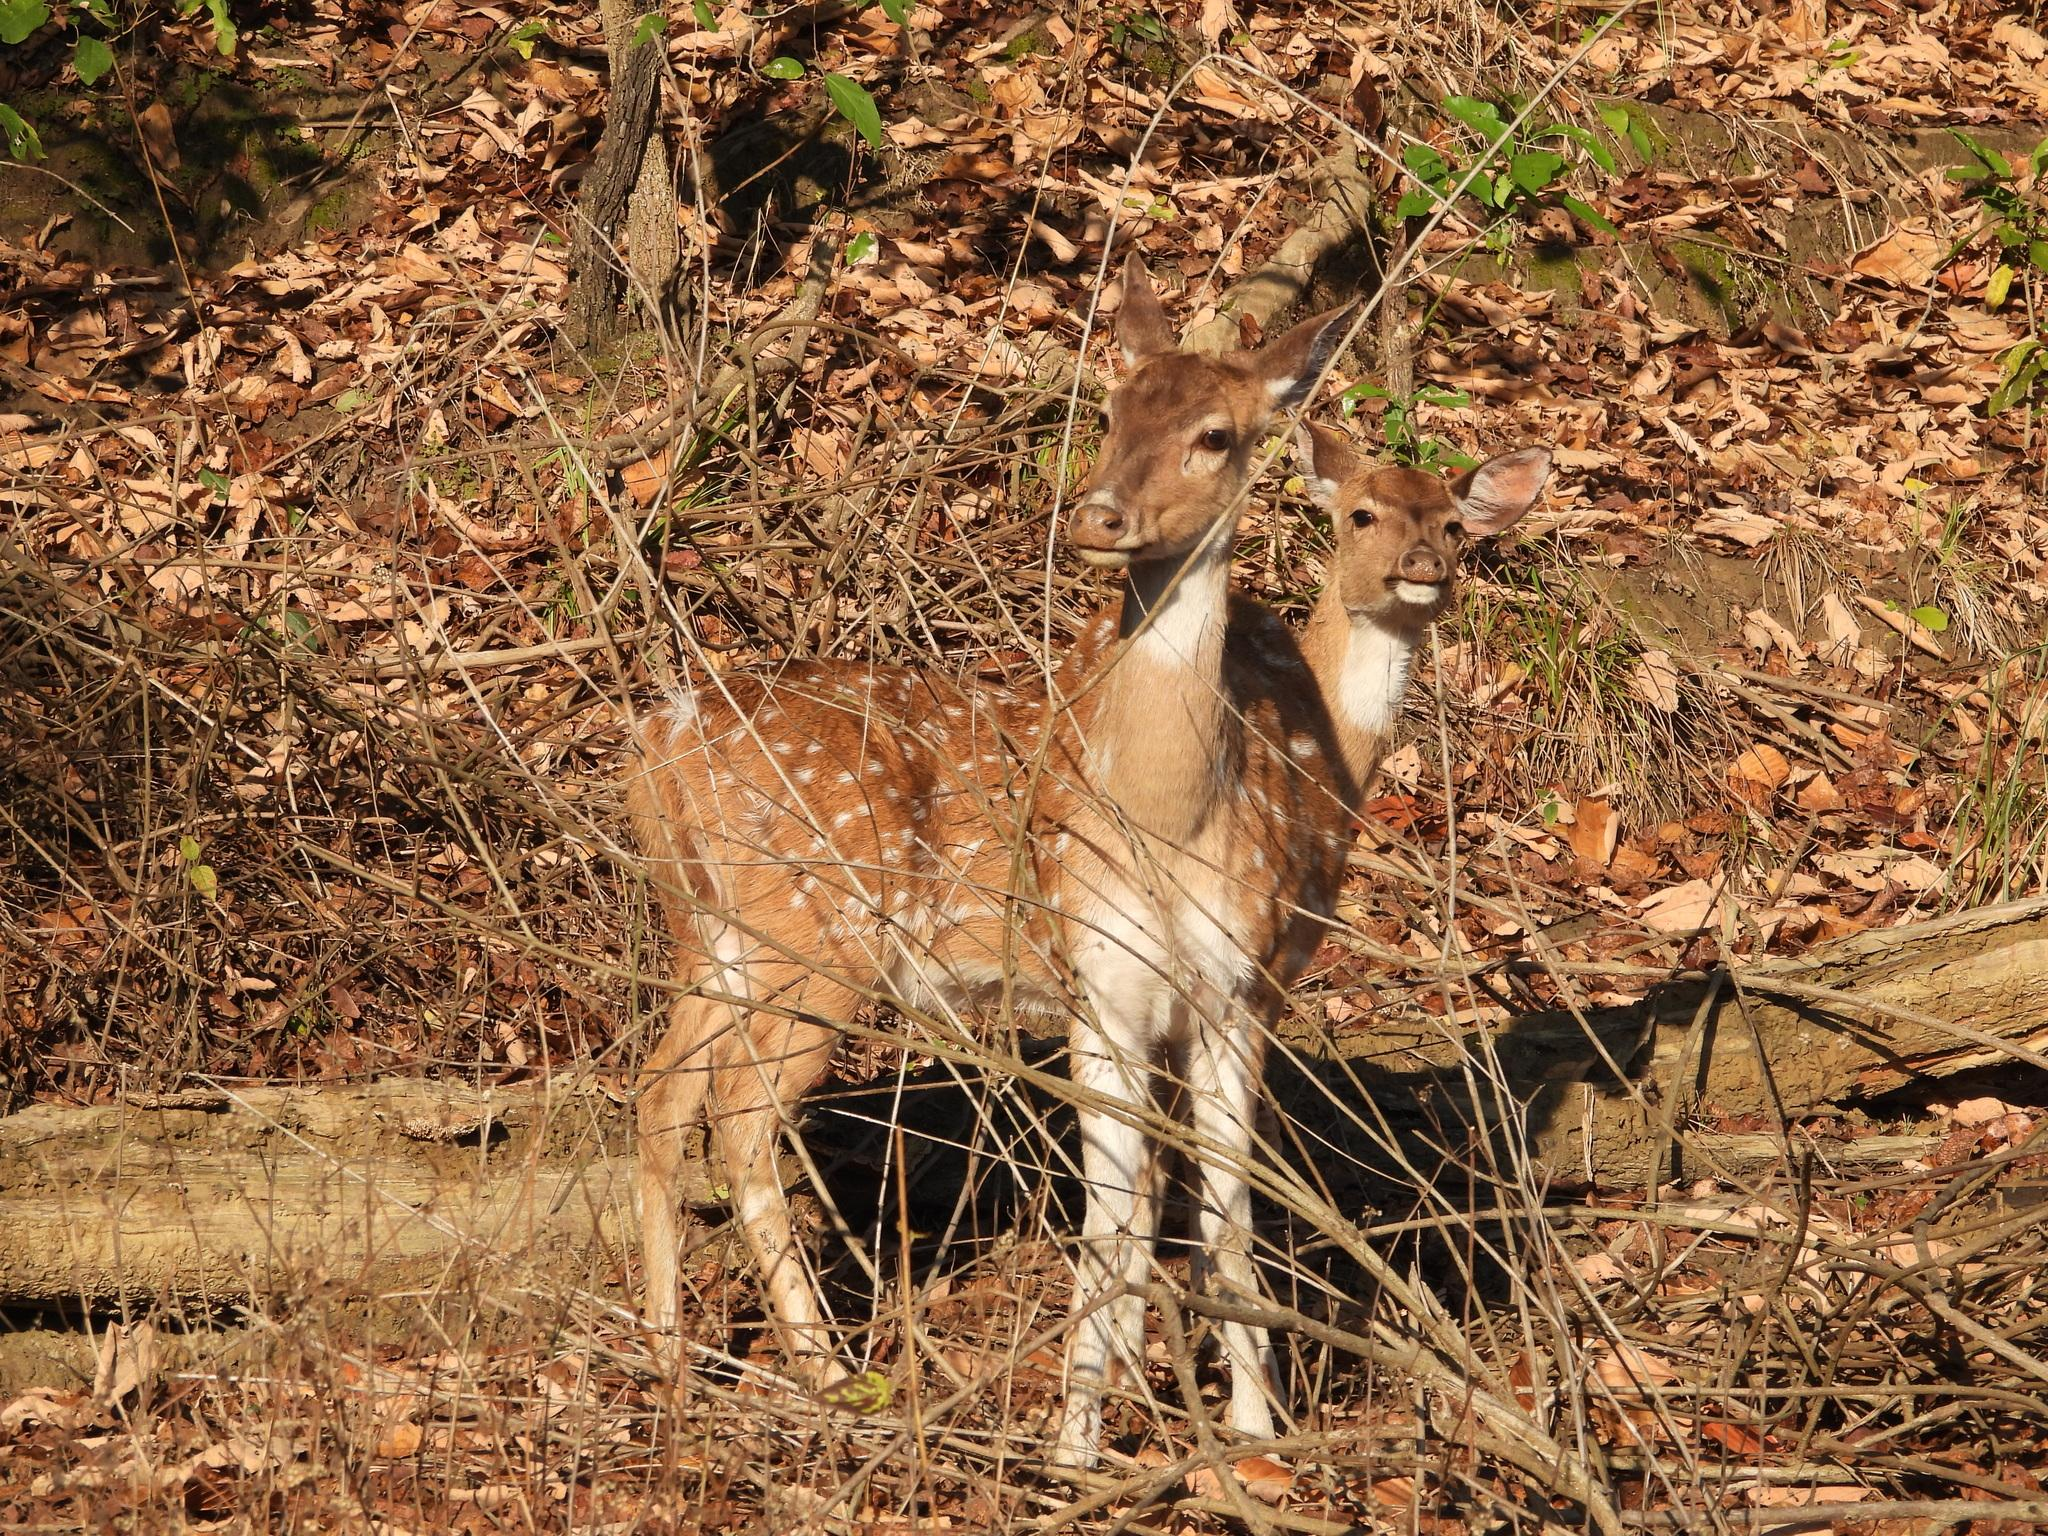Deer: (1034, 263, 1348, 1463), (1293, 421, 1550, 791)
